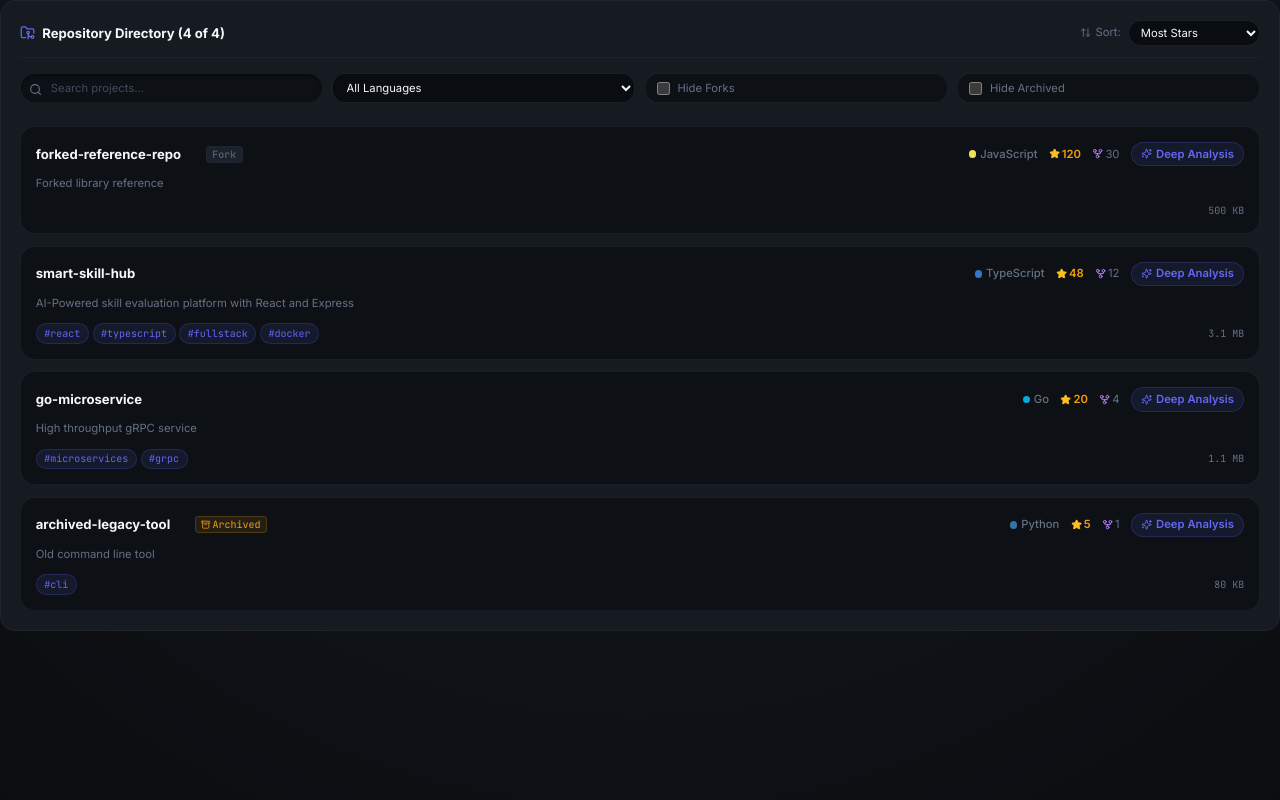
Test: GitHub Intelligence Hub & Full Git Reviewer Integration Suite › 5. RepoAnalysis Component › hides forked and archived repositories when checkboxes are toggled
This screenshot has width=1280, height=800.
What coordinates should you click on to do the following:
click the checkbox labelled "Hide Forks"
I would click on:
 (663, 88)
Its box is [657,82,670,95].
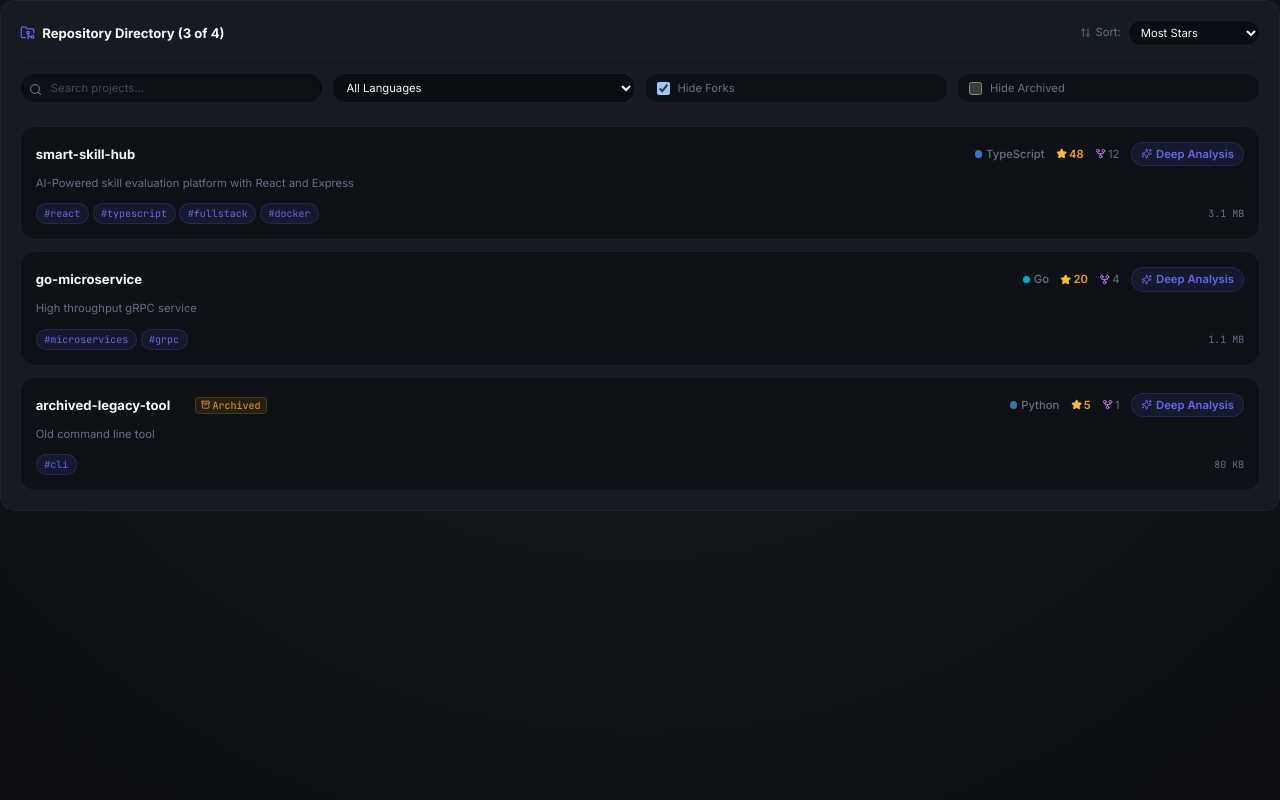
Expected: the link "smart-skill-hub" is shown, [36,145,152,163]
Now the link "forked-reference-repo" is gone
